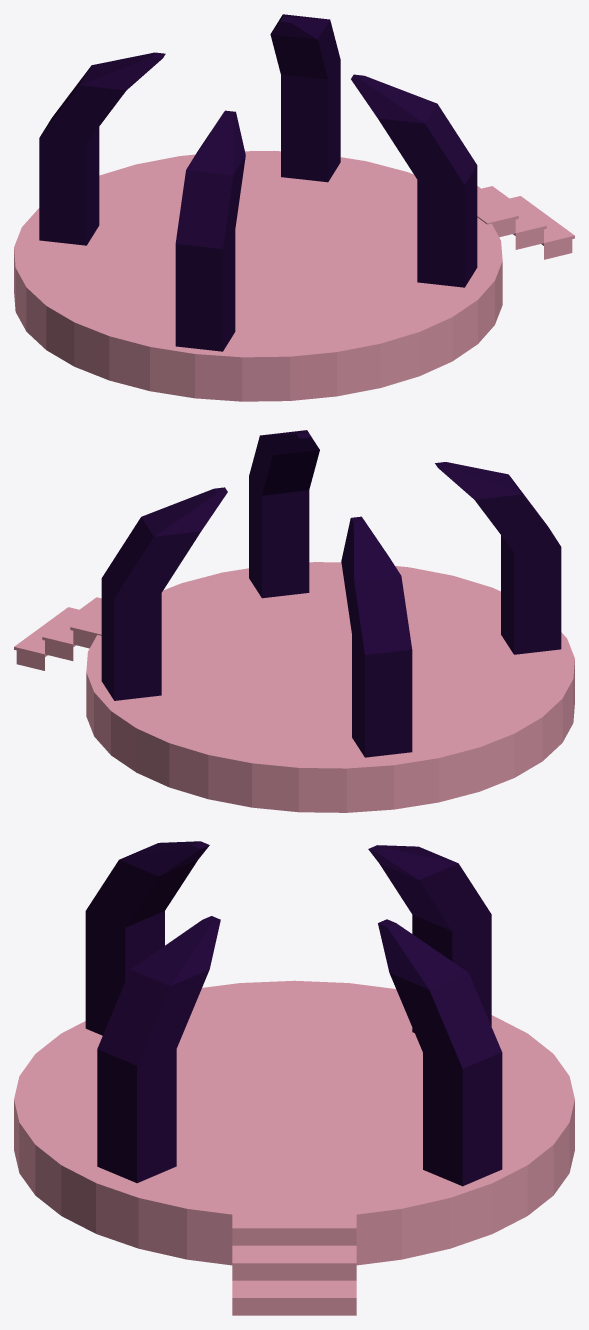
File: WraithPortal.fbx
3 renders of one model, top to bottom at view 1: azimuth 30°, elevation 25°; view 2: azimuth 150°, elevation 25°; view 3: azimuth 270°, elevation 25°, orthographic. The views are drawn at different scales.
Visible parts, largest first — view 1: Cylinder, Cube.003, Stairs; view 2: Cylinder, Cube.003, Stairs; view 3: Cylinder, Cube.003, Stairs.
Boxes of the visible parts, <box> form: Cylinder: <box>14,151,502,401</box>; Cube.003: <box>39,14,477,351</box>; Stairs: <box>477,186,574,259</box>; Cylinder: <box>86,562,574,812</box>; Cube.003: <box>101,430,561,757</box>; Stairs: <box>14,597,101,670</box>; Cylinder: <box>14,980,574,1265</box>; Cube.003: <box>85,841,502,1186</box>; Stairs: <box>232,1210,356,1315</box>.
Bounding box in the file's own units: 237 × 107 × 200.
